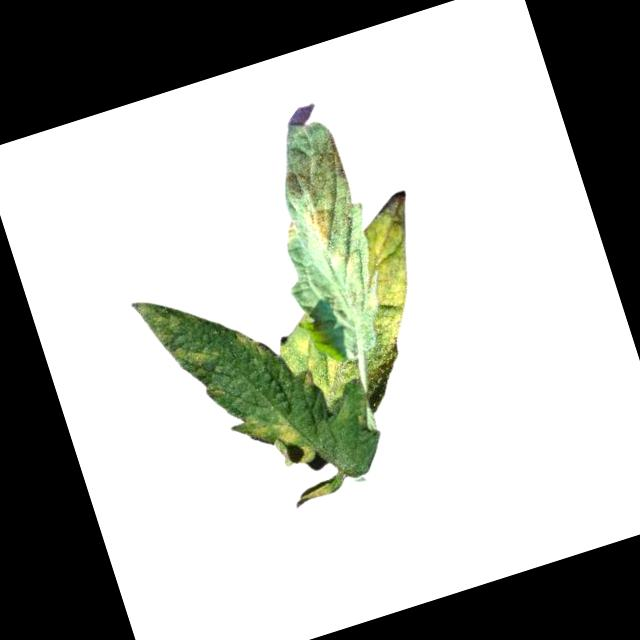Leaf_Mold: (343, 188, 454, 358), (280, 320, 367, 416), (238, 399, 319, 480), (302, 203, 338, 252), (232, 324, 268, 363)
